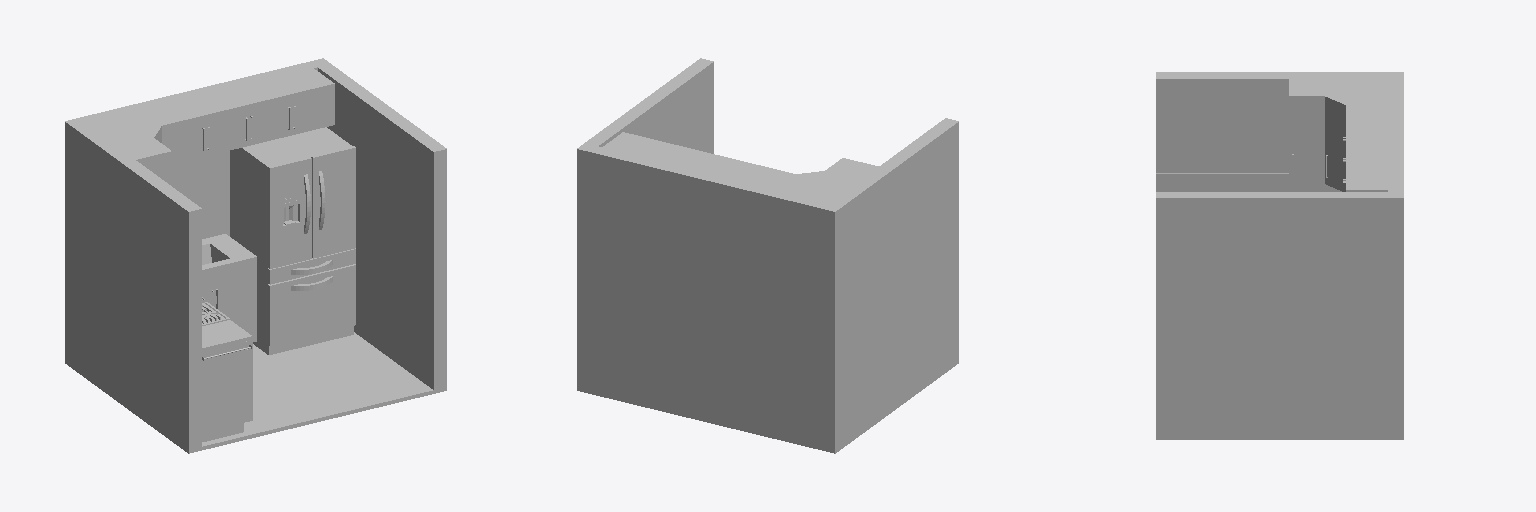
File: kitchen2.obj
3 renders of one model, left to right at view 1: azimuth 30°, elevation 25°; view 2: azimuth 150°, elevation 25°; view 3: azimuth 270°, elevation 25°, orthographic.
Visible parts, largest first — view 1: Group_009, New_Kitchen_001, Fridge_001, Group_016; view 2: Group_009, New_Kitchen_001; view 3: Group_009, New_Kitchen_001.
Boxes of the visible parts, x1,y1,x2,y2 form: Group_009: [65, 58, 446, 449]; New_Kitchen_001: [65, 68, 446, 453]; Fridge_001: [230, 127, 355, 354]; Group_016: [214, 275, 256, 341]; Group_009: [577, 58, 958, 449]; New_Kitchen_001: [577, 132, 958, 453]; Group_009: [1156, 72, 1403, 435]; New_Kitchen_001: [1156, 79, 1403, 439].
Bounding box in the file's own units: 112 × 100 × 92.85.